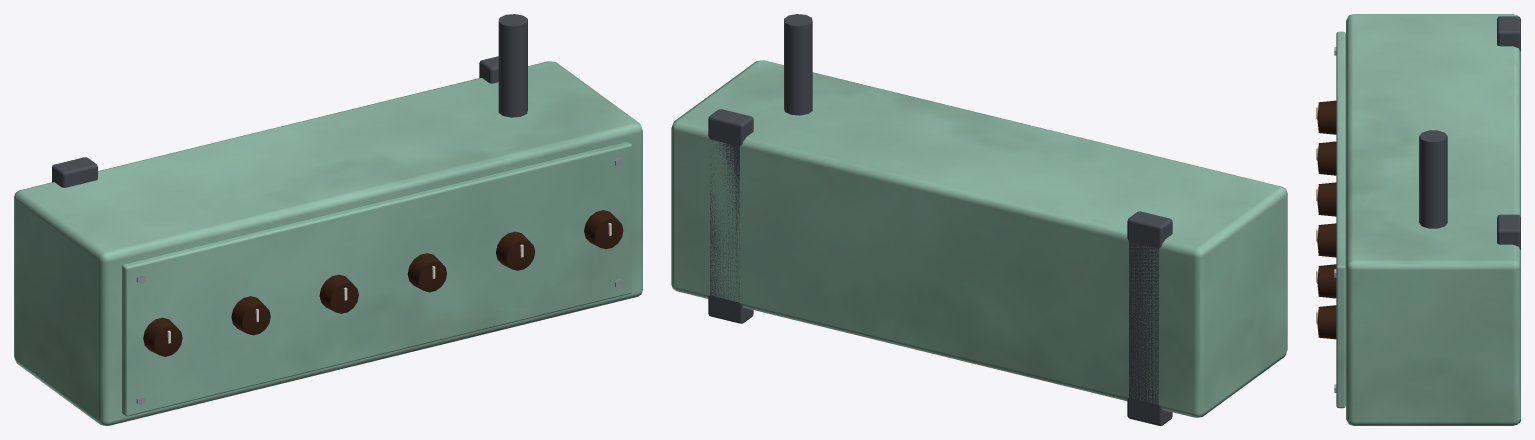
Rendered from WallBox_75_1.glb.
3 views of the same model, side by side, from view 1: azimuth 30°, elevation 25°; view 2: azimuth 150°, elevation 25°; view 3: azimuth 270°, elevation 25° (orthographic). The views are drawn at different scales.
Visible parts, largest first — view 1: WallBox_75_1_Body; view 2: WallBox_75_1_Body; view 3: WallBox_75_1_Body.
Boxes of the visible parts, box(x1,y1,x2,y2) form: WallBox_75_1_Body: box(14, 14, 642, 425); WallBox_75_1_Body: box(671, 14, 1287, 425); WallBox_75_1_Body: box(1316, 14, 1520, 425).
Size of the model in its own units: 0.75 by 0.37 by 0.2575.
5 materials, 2 textured.
